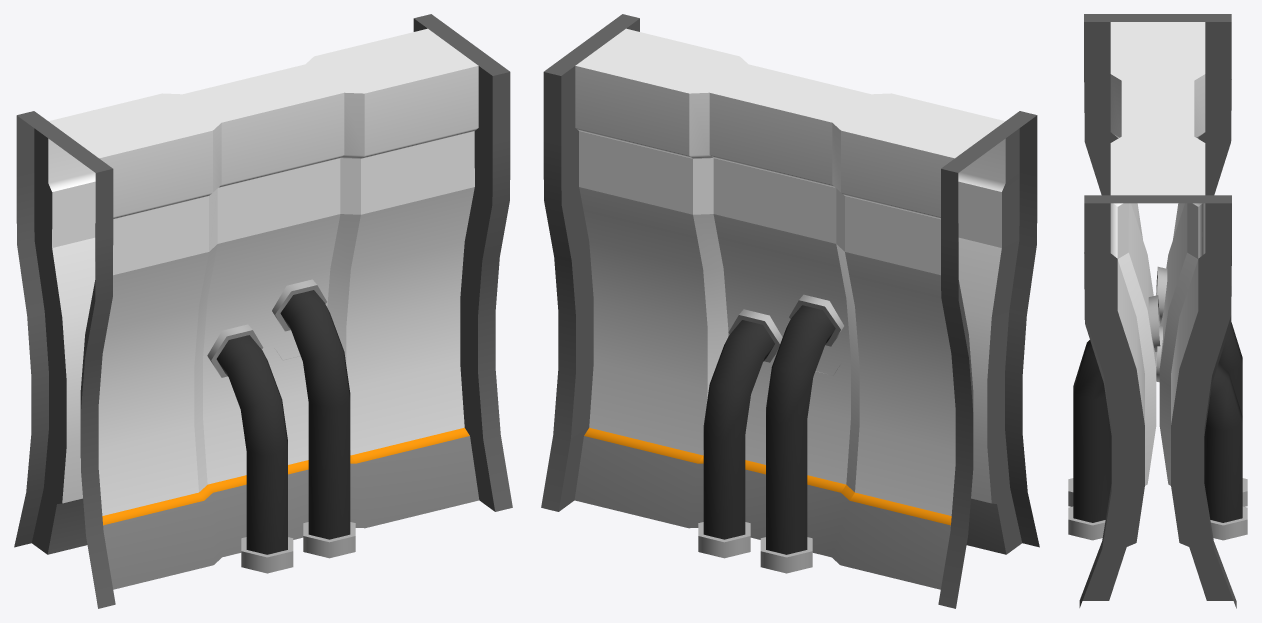
File: SM_ExteriorWall_03_Elevator.fbx
3 renders of one model, left to right at view 1: azimuth 30°, elevation 25°; view 2: azimuth 150°, elevation 25°; view 3: azimuth 270°, elevation 25°, orthographic. The views are drawn at different scales.
Parts seen in each view (by area): view 1: SM_ExteriorWall_03_Elevator; view 2: SM_ExteriorWall_03_Elevator; view 3: SM_ExteriorWall_03_Elevator.
Part boxes in pixels (left/top/right/bottom): SM_ExteriorWall_03_Elevator: left=14, top=14, right=512, bottom=608; SM_ExteriorWall_03_Elevator: left=541, top=14, right=1039, bottom=608; SM_ExteriorWall_03_Elevator: left=1068, top=14, right=1247, bottom=608.
Bounding box in the file's own units: 200 × 200 × 80.15.
1 material, 1 textured.
